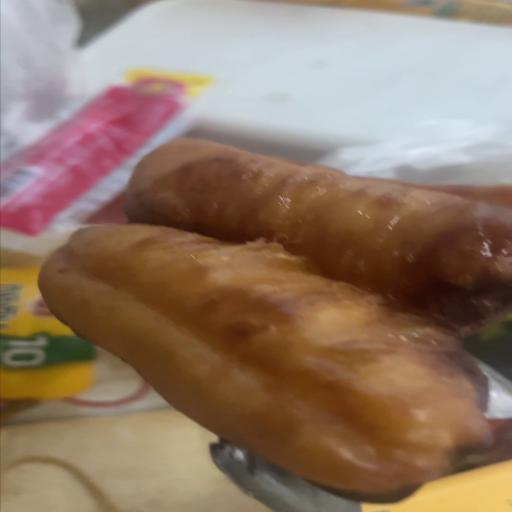street_burnt_good: (39, 224, 492, 495), (127, 139, 512, 327)
